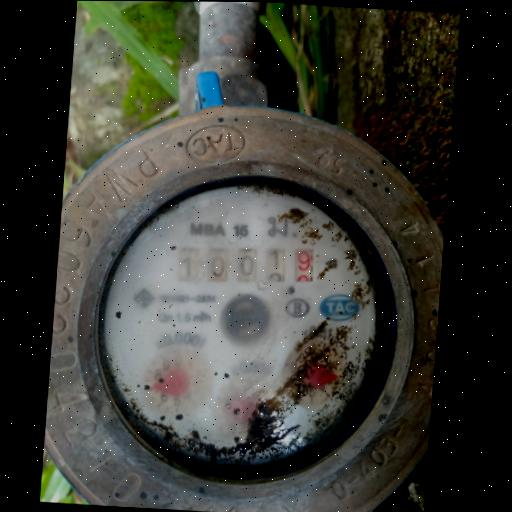0: (207, 247, 228, 282), (238, 248, 258, 282)
1: (178, 245, 198, 281), (266, 249, 286, 283)
9: (294, 250, 313, 283)
border_water_meter_number: (179, 241, 315, 289)
